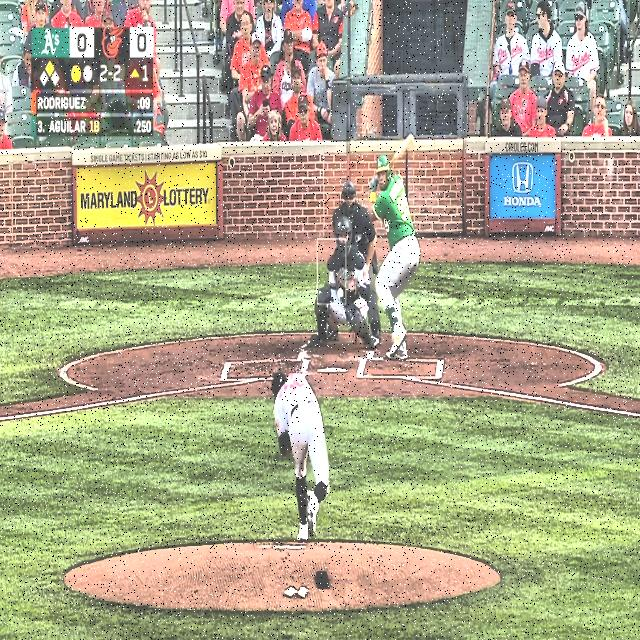baseball: (338, 288, 343, 298)
